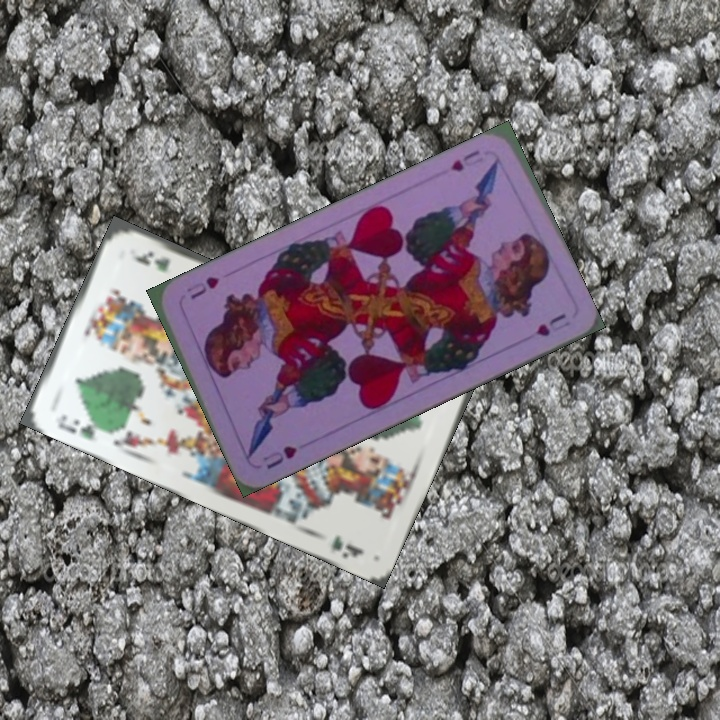GK: (53, 410, 99, 443)
HU: (258, 441, 300, 472), (446, 146, 483, 175)
